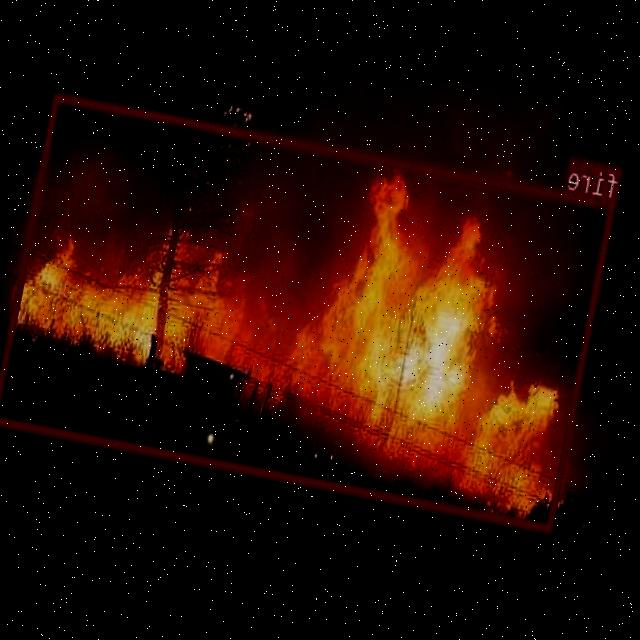fire: (0, 91, 618, 532)
